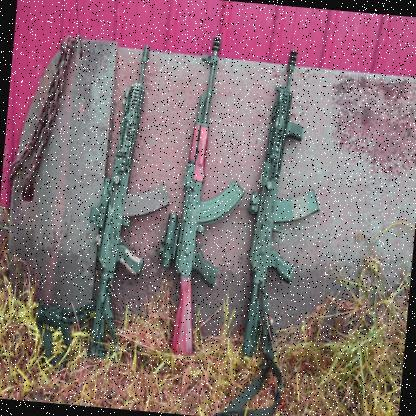rifle: (236, 33, 341, 371), (155, 31, 250, 369), (90, 39, 178, 351)
